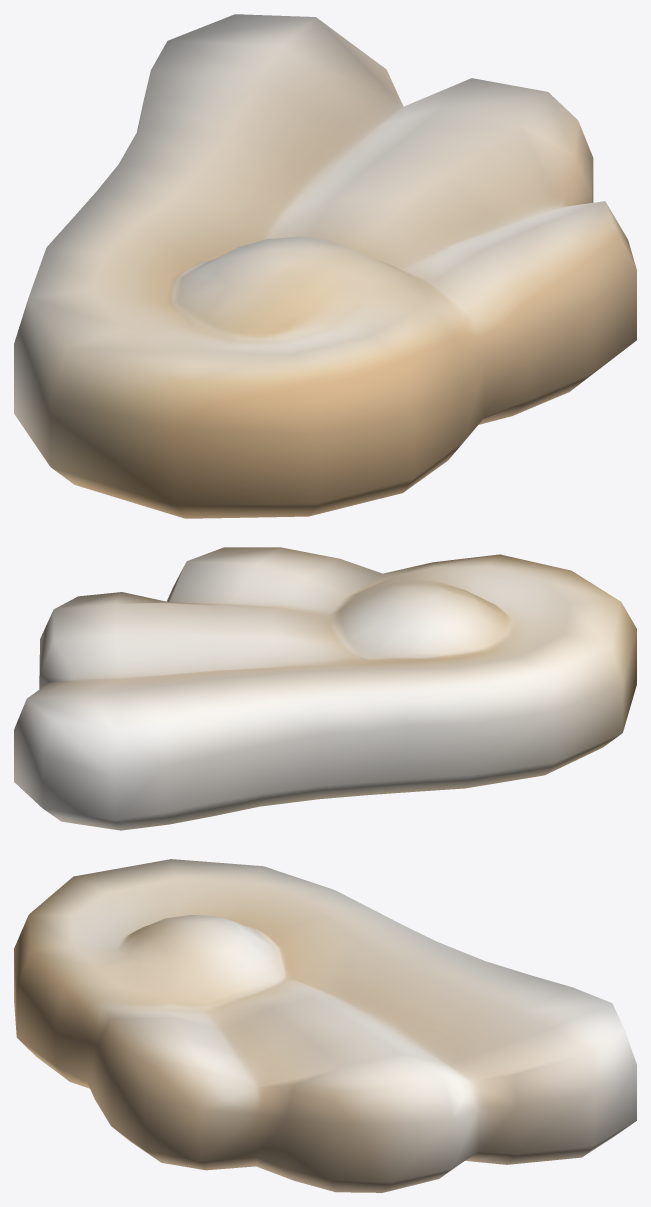
File: Wing.FBX
The picture shows the model from 3 angles, top to bottom: view 1: azimuth 30°, elevation 25°; view 2: azimuth 150°, elevation 25°; view 3: azimuth 270°, elevation 25°; orthographic projection. The views are drawn at different scales.
Visible parts, largest first — view 1: Wing; view 2: Wing; view 3: Wing.
Boxes of the visible parts, x1,y1,x2,y2 form: Wing: (14,14,636,518); Wing: (14,547,636,830); Wing: (14,859,636,1192).
Bounding box in the file's own units: 30.44 × 7.46 × 33.07.
Materials: 1 (1 with a texture image).
